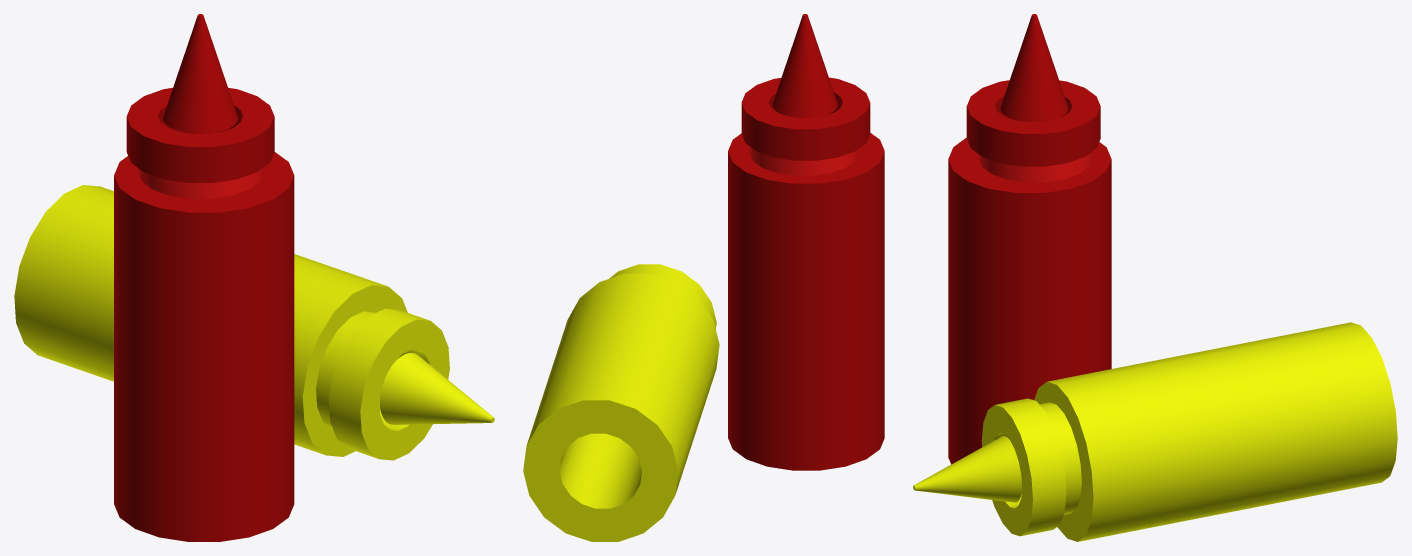
Rendered from Ketchup.FBX.
3 views of the same model, side by side, from view 1: azimuth 30°, elevation 25°; view 2: azimuth 150°, elevation 25°; view 3: azimuth 270°, elevation 25° (orthographic). The views are drawn at different scales.
Parts seen in each view (by area): view 1: Tube002, Tube007, Tube006, Tube003, Cone001, Cone002, Tube004, Tube005; view 2: Tube002, Tube007, Tube003, Cone001, Tube004, Tube006; view 3: Tube007, Tube002, Tube003, Tube006, Cone001, Cone002, Tube005, Tube004.
Boxes of the visible parts, x1,y1,x2,y2 form: Tube002: (114,152,294,541); Tube007: (14,185,407,456); Tube006: (328,308,449,460); Tube003: (126,87,274,182); Cone001: (163,14,237,133); Cone002: (380,353,494,424); Tube004: (138,168,263,198); Tube005: (316,311,398,429); Tube002: (728,133,884,470); Tube007: (523,273,719,541); Tube003: (741,77,870,160); Cone001: (772,14,837,117); Tube004: (749,146,858,175); Tube006: (609,264,716,328); Tube007: (1034,322,1397,541); Tube002: (948,137,1111,464); Tube003: (966,80,1100,166); Tube006: (981,398,1066,536); Cone001: (1000,14,1068,121); Cone002: (913,436,1022,502); Tube005: (1039,402,1081,514); Tube004: (979,152,1092,182).
Bounding box in the file's own units: 659 × 952 × 941.
